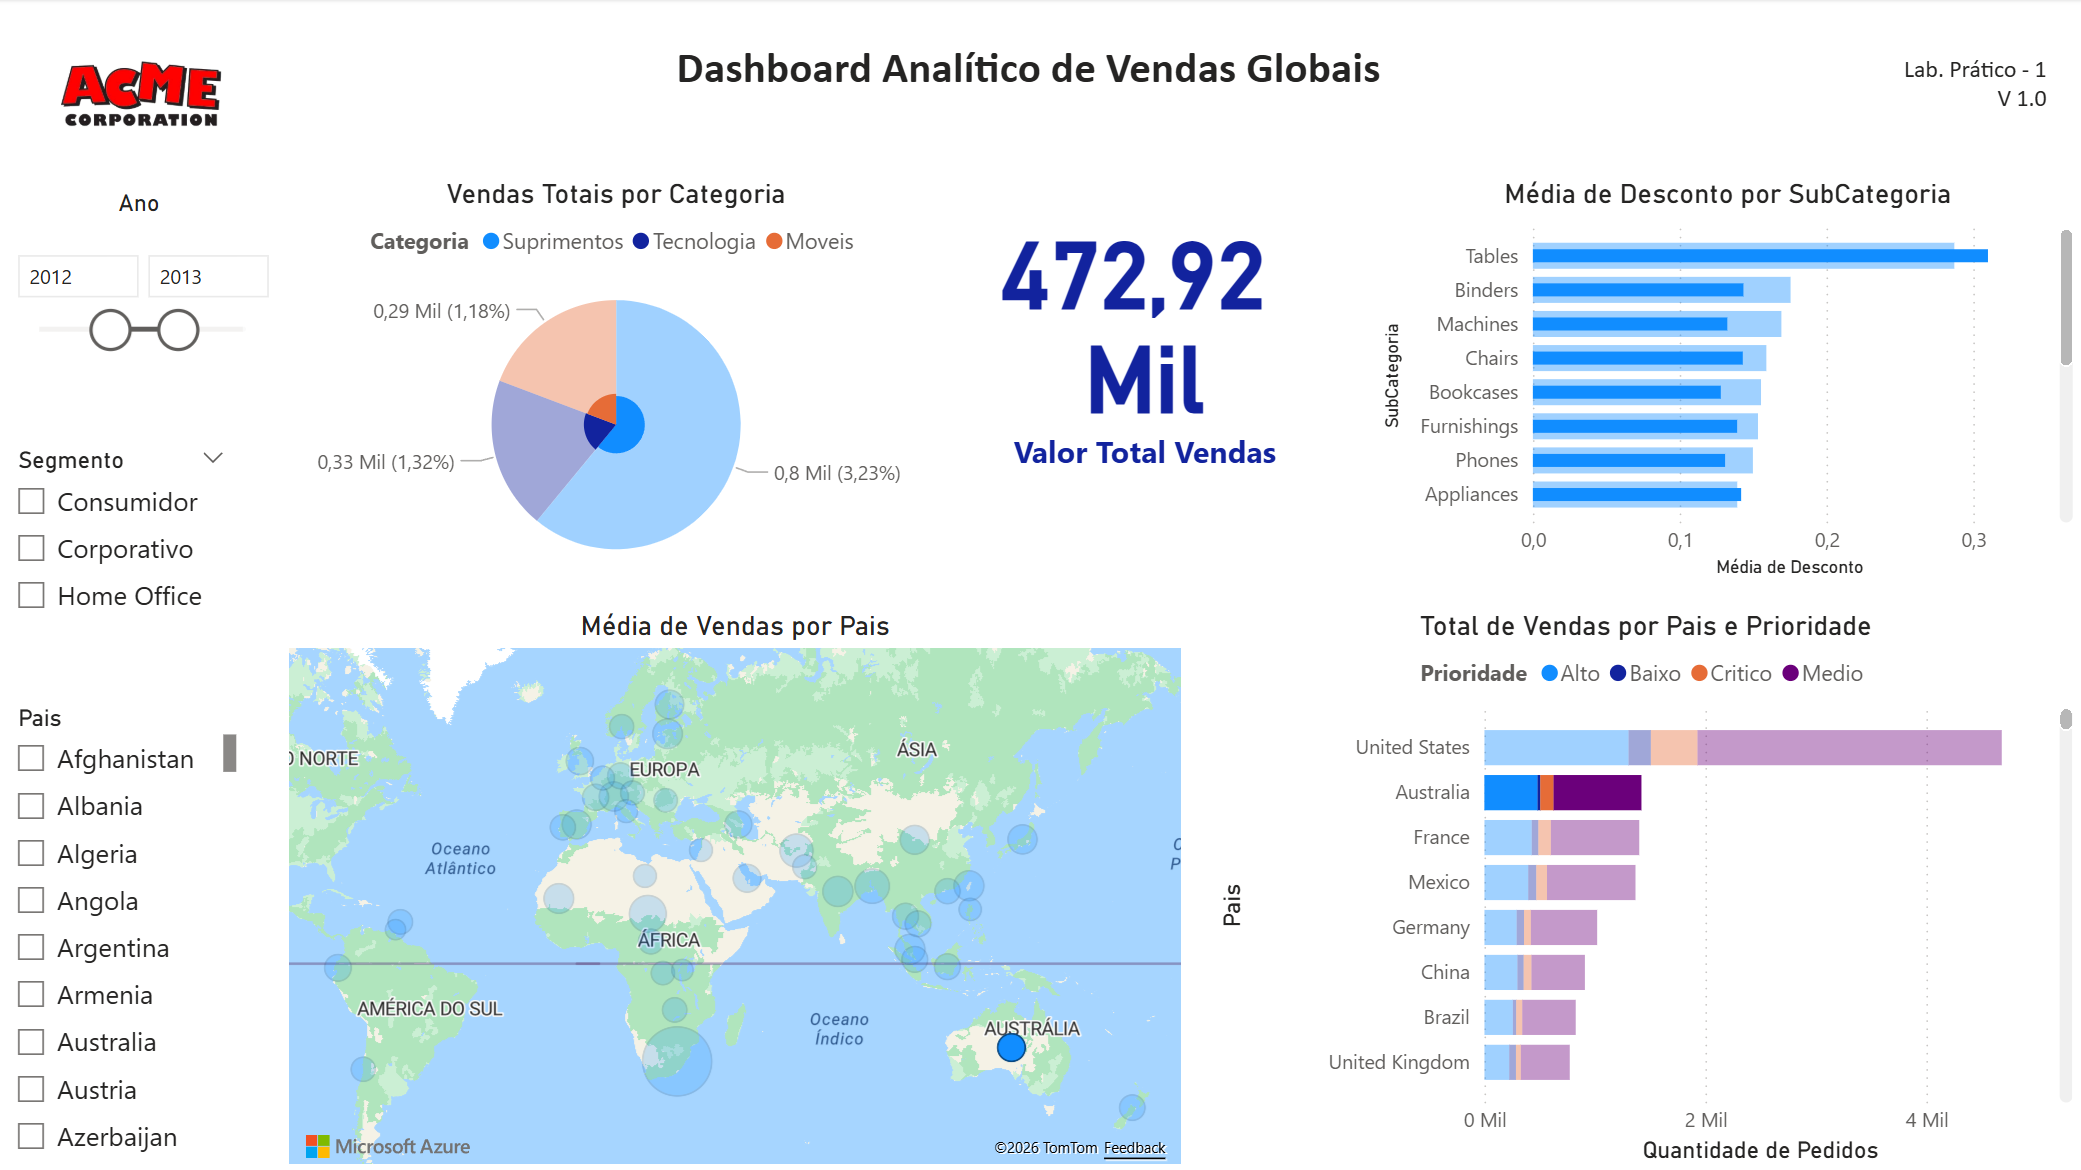

The dashboard page shown, as its layout file describes it:
{"tool":"powerbi","page":{"name":"Page 1","canvas":[1280,720],"ordinal":0},"visuals":[{"type":"card","fields":{"Values":["Sum(dataset.Total_Vendas)"]},"box":[575,103.8,260.5,204.6],"z":0},{"type":"pieChart","title":"Vendas Totais por Categoria","fields":{"Category":["dataset.Categoria"],"Y":["CountNonNull(dataset.ID_Pedido)"]},"box":[174.6,109.6,411.8,256.6],"z":1000},{"type":"barChart","title":"Total de Vendas por Pais e Prioridade","fields":{"Category":["dataset.Pais"],"Series":["dataset.Prioridade"],"Y":["CountNonNull(dataset.ID_Pedido)"]},"box":[745.6,375,534.4,345.5],"z":2000},{"type":"barChart","fields":{"Category":["dataset.SubCategoria"],"Y":["Avg(dataset.Desconto)"]},"box":[846.4,109.7,433.6,250.2],"z":3000},{"type":"azureMap","title":"Média de Vendas por Pais","fields":{"Category":["dataset.Pais"],"Size":["Avg(dataset.Total_Vendas)"]},"box":[174.5,374.8,558.3,345.9],"z":4000},{"type":"slicer","fields":{"Values":["dataset.Pais"]},"box":[0,428.7,151.5,291.1],"z":5000},{"type":"slicer","fields":{"Values":["dataset.Segmento"]},"box":[0,270.2,151.5,117.6],"z":6000},{"type":"slicer","title":"Ano","fields":{"Values":["dataset.Data_Pedido.Variation.Date Hierarchy.Year"]},"box":[0,117.6,174.5,110.7],"z":7000},{"type":"textbox","box":[151.5,20.9,964,47.9],"z":8000},{"type":"textbox","box":[1115.5,28.9,148.5,58.8],"z":9000},{"type":"image","box":[37.9,7,99.7,102.7],"z":10000}]}

Visuals, with their boxes in screenshot pixels (x1, y1, x2, y2), scaled from the page's 1280x720 canvas onto the 2081x1170 screenshot:
card - Sum(dataset.Total_Vendas): [left=935, top=169, right=1358, bottom=501]
"Vendas Totais por Categoria" pieChart: [left=284, top=178, right=953, bottom=595]
"Total de Vendas por Pais e Prioridade" barChart: [left=1212, top=609, right=2080, bottom=1169]
barChart - dataset.SubCategoria x Avg(dataset.Desconto): [left=1376, top=178, right=2080, bottom=585]
"Média de Vendas por Pais" azureMap: [left=284, top=609, right=1191, bottom=1169]
slicer - dataset.Pais: [left=0, top=697, right=246, bottom=1169]
slicer - dataset.Segmento: [left=0, top=439, right=246, bottom=630]
"Ano" slicer: [left=0, top=191, right=284, bottom=371]
textbox: [left=246, top=34, right=1814, bottom=112]
textbox: [left=1814, top=47, right=2055, bottom=143]
image: [left=62, top=11, right=224, bottom=178]
